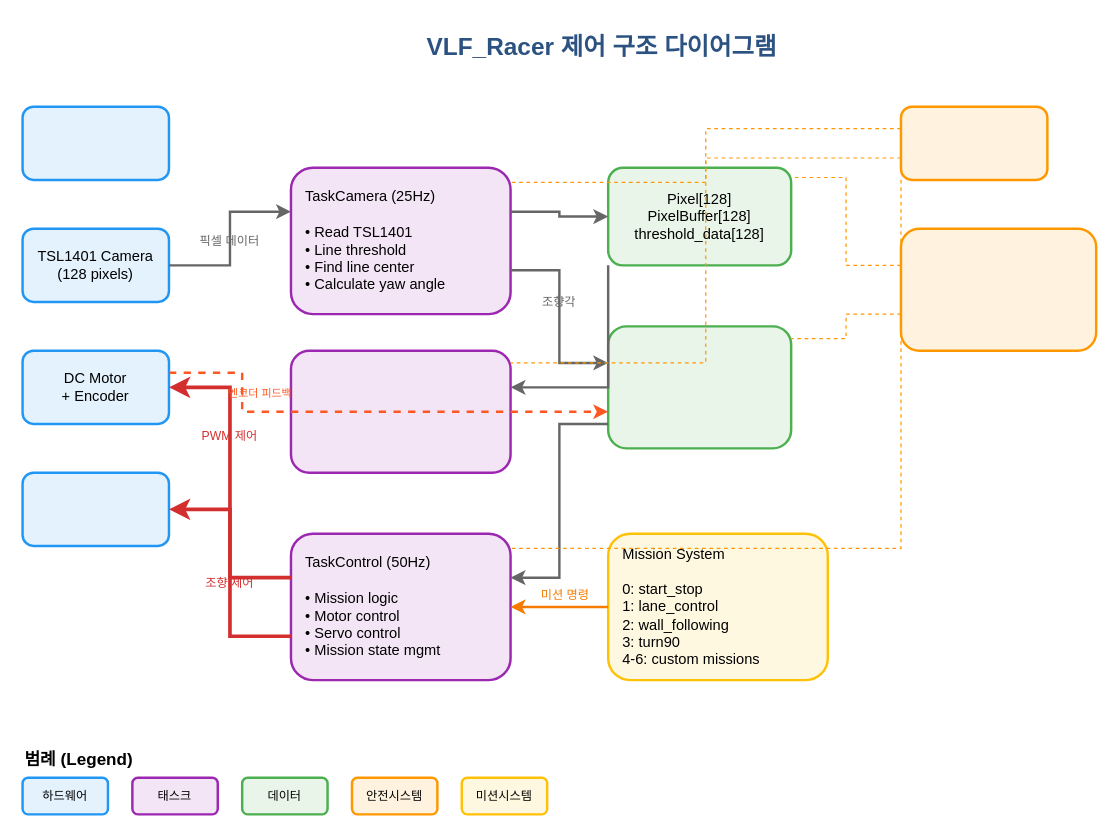
This 1118x836 diagram has some shape labels left out. Here are the shapes that lost their labels. From the top down, the centre of each, then its label:
At [95,143]: "Arduino Uno FreeRTOS".
At [973,143]: "Watchdog Timer (2s timeout)".
At [998,289]: "Semaphores • xSerialSemaphore • xDataSemaphore • xSteeringSemaphore".
At [699,387]: "vision_steer_angle steering_angle mission_flag encoderPos".
At [400,411]: "TaskSerial (10Hz) • Send pixel data • Debug output • Monitoring".
At [95,509]: "Servo Motor (Steering)".
